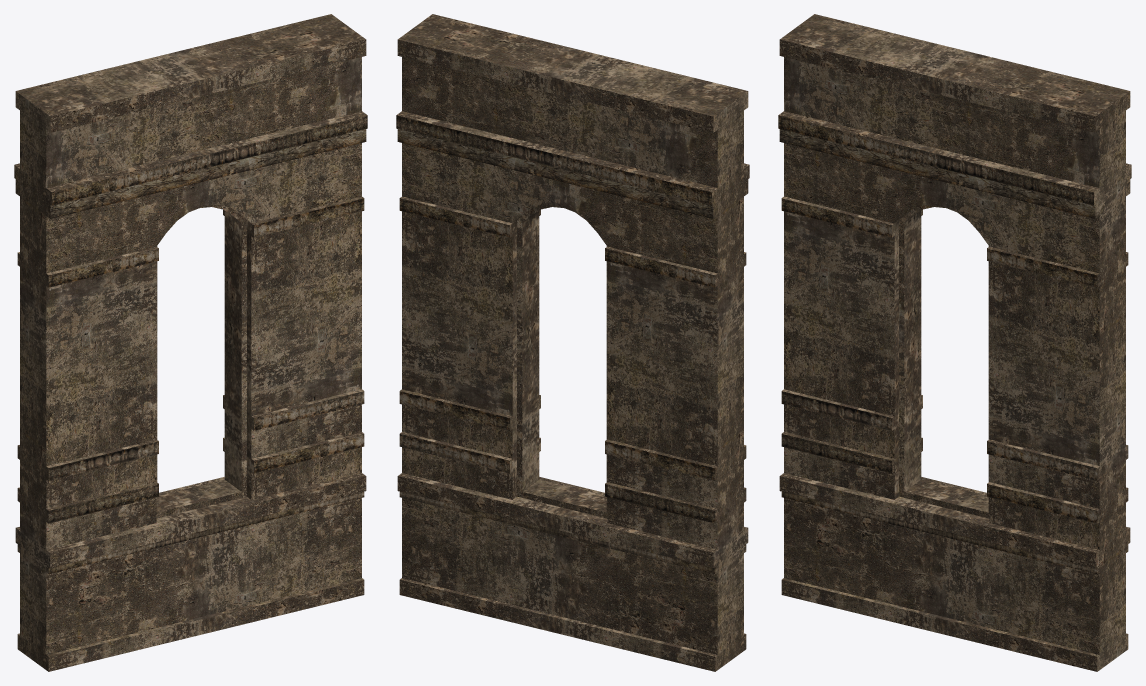
The model's file is materials_5_wall_rectangle_6.fbx.
3 renders of one model, left to right at view 1: azimuth 30°, elevation 25°; view 2: azimuth 150°, elevation 25°; view 3: azimuth 330°, elevation 25°, orthographic.
Visible parts, largest first — view 1: materials_5_wall_rectangle_6; view 2: materials_5_wall_rectangle_6; view 3: materials_5_wall_rectangle_6.
Boxes of the visible parts, left/top/right/bottom form: materials_5_wall_rectangle_6: left=14, top=14, right=367, bottom=671; materials_5_wall_rectangle_6: left=396, top=14, right=749, bottom=671; materials_5_wall_rectangle_6: left=778, top=14, right=1131, bottom=671.
Bounding box in the file's own units: 273 × 461 × 56.67.
